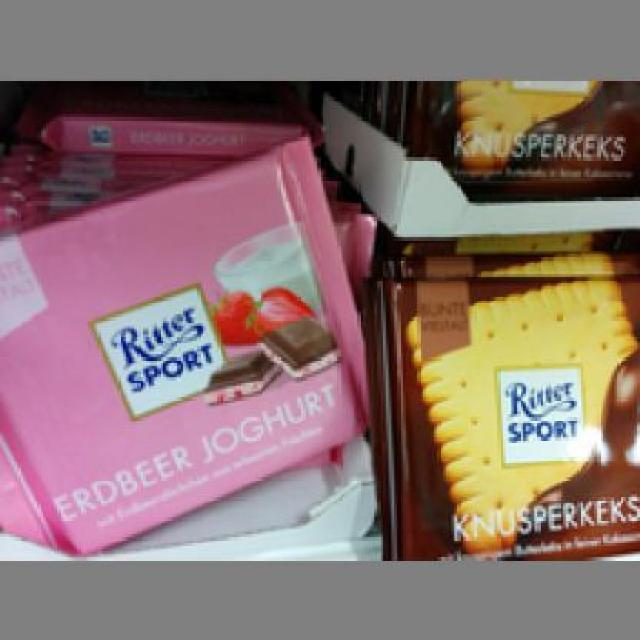Chocolate bar: (2, 145, 356, 552), (372, 274, 637, 560)
